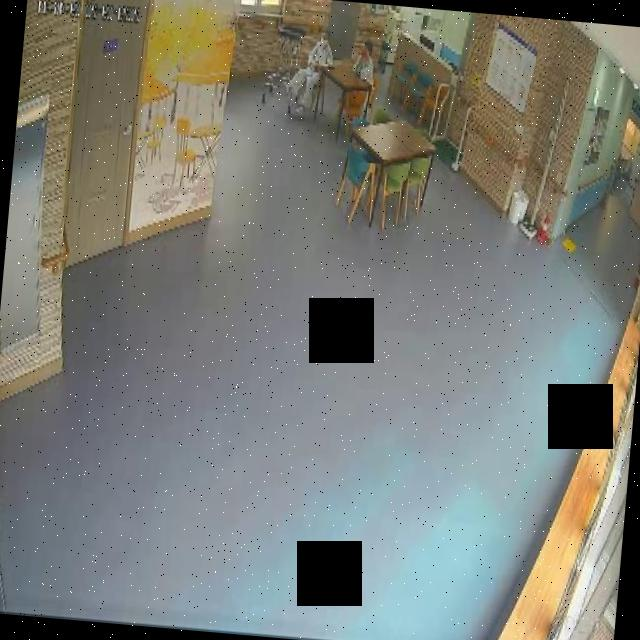patient: (280, 27, 338, 122), (350, 30, 386, 86)
sit: (282, 28, 338, 122)
